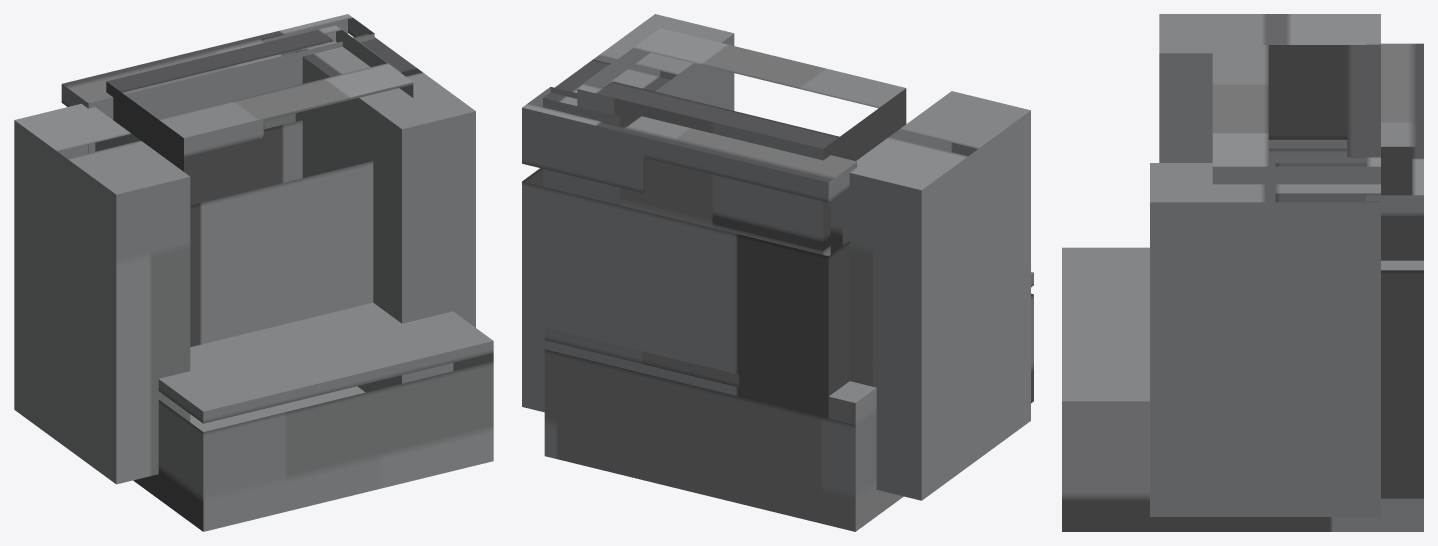
3 renders of one model, left to right at view 1: azimuth 30°, elevation 25°; view 2: azimuth 150°, elevation 25°; view 3: azimuth 270°, elevation 25°, orthographic. The views are drawn at different scales.
Bounding box in the file's own units: 0.9626 × 0.8569 × 0.7818.
